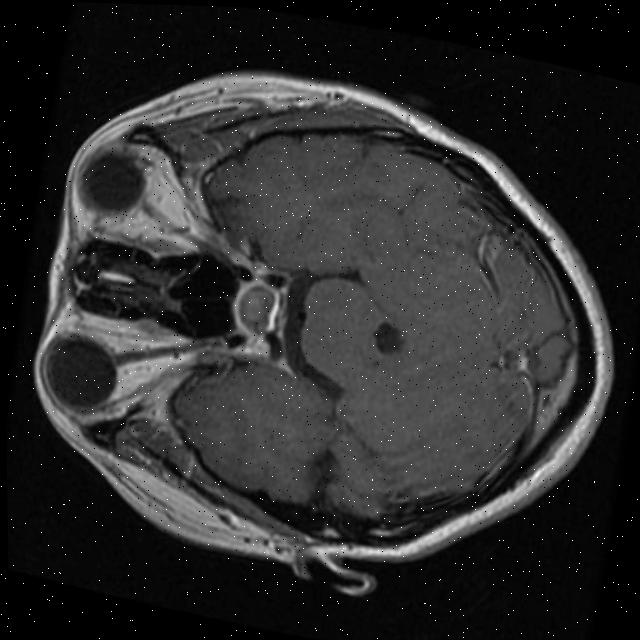Pituitary: (231, 278, 281, 334)
